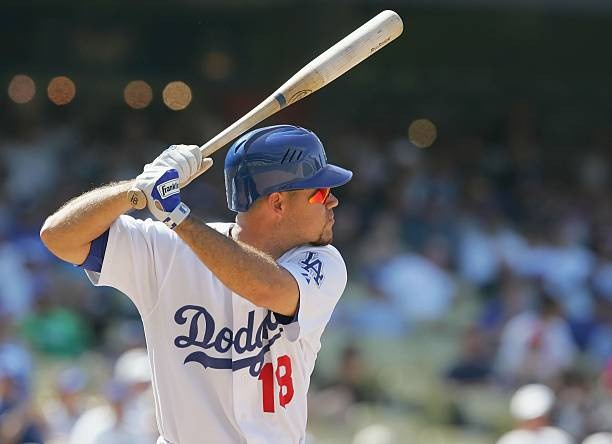bita: (186, 9, 403, 161)
